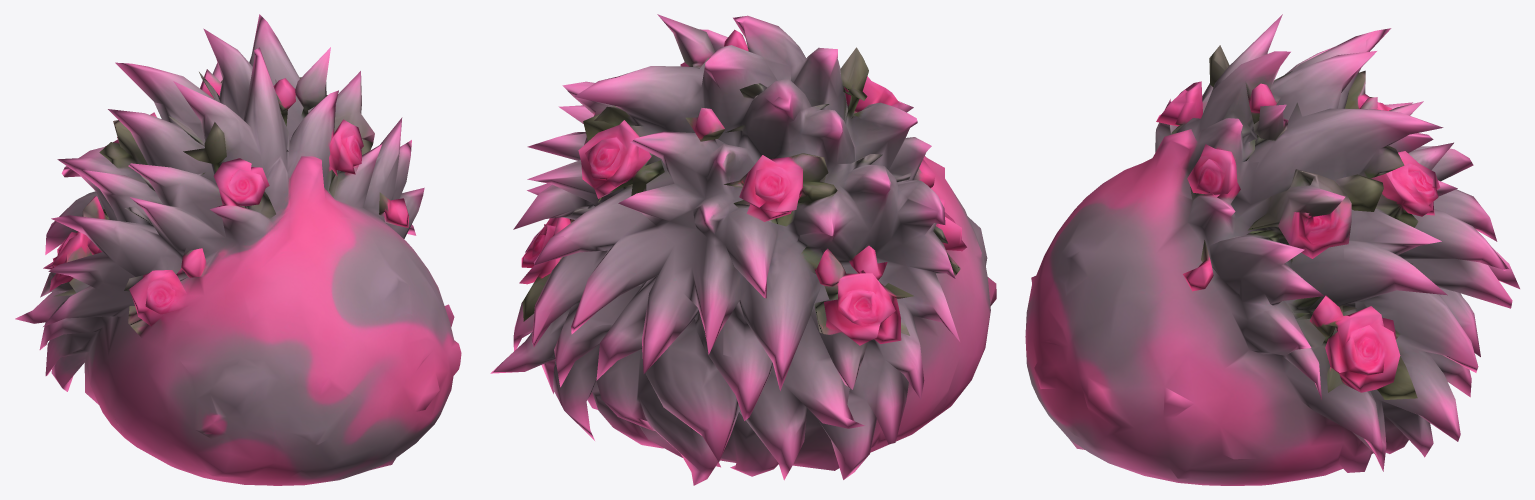
File: rose_hedgehog.glb
3 views of the same model, side by side, from view 1: azimuth 30°, elevation 25°; view 2: azimuth 150°, elevation 25°; view 3: azimuth 270°, elevation 25° (orthographic). The views are drawn at different scales.
Parts seen in each view (by area): view 1: tripo_node_4a0b118e-760e-4b11-bca7-9334268b187f; view 2: tripo_node_4a0b118e-760e-4b11-bca7-9334268b187f; view 3: tripo_node_4a0b118e-760e-4b11-bca7-9334268b187f.
Part boxes in pixels (left/top/right/bottom): tripo_node_4a0b118e-760e-4b11-bca7-9334268b187f: left=15, top=14, right=461, bottom=485; tripo_node_4a0b118e-760e-4b11-bca7-9334268b187f: left=490, top=14, right=996, bottom=485; tripo_node_4a0b118e-760e-4b11-bca7-9334268b187f: left=1025, top=14, right=1519, bottom=485.
Size of the model in its own units: 0.9656 by 0.8974 by 1.
Materials: 1 (1 with a texture image).
